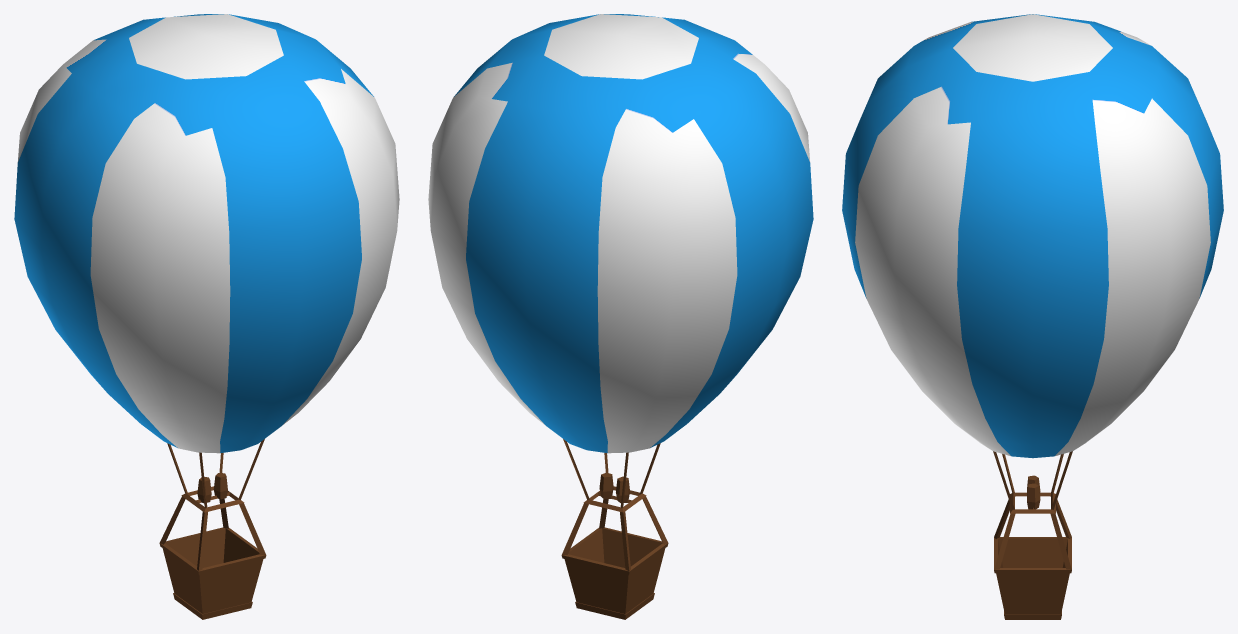
The model's file is hot_air_balloon.glb.
3 views of the same model, side by side, from view 1: azimuth 30°, elevation 25°; view 2: azimuth 150°, elevation 25°; view 3: azimuth 270°, elevation 25° (orthographic).
Parts seen in each view (by area): view 1: Object_85; view 2: Object_85; view 3: Object_85.
Boxes of the visible parts, x1,y1,x2,y2 form: Object_85: [14, 14, 399, 619]; Object_85: [428, 14, 813, 619]; Object_85: [842, 14, 1223, 619].
Size of the model in its own units: 5.03 by 8.26 by 5.03.
1 material, 1 textured.
